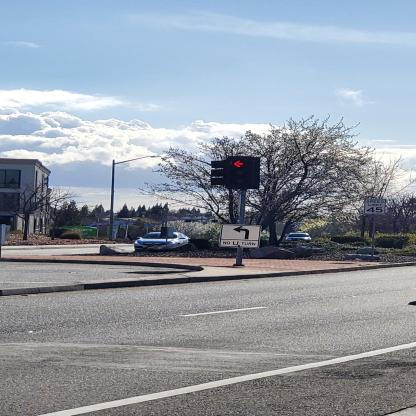left-red: (229, 158, 253, 188)
